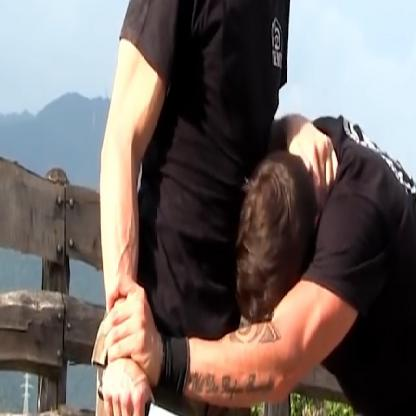knife: (91, 358, 222, 415)
